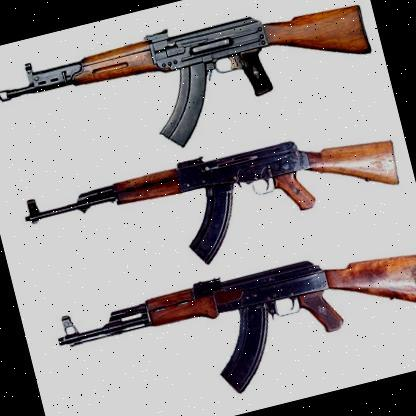rifle: (15, 90, 414, 301), (0, 0, 390, 199), (49, 205, 416, 416)
